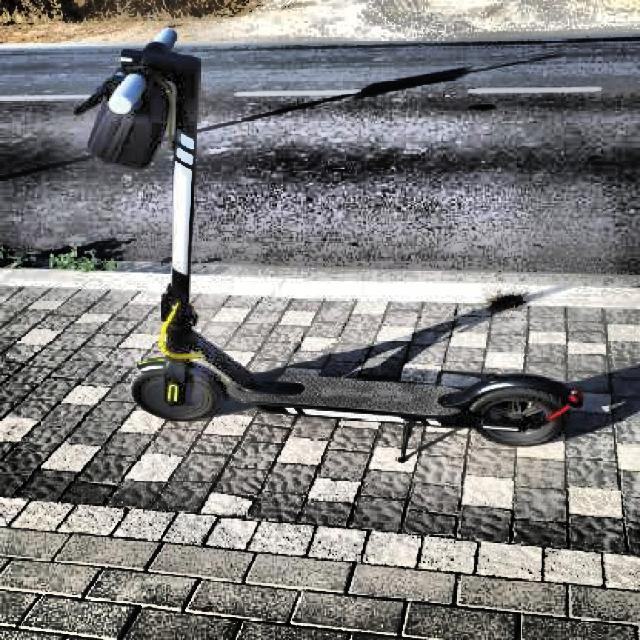bike: (131, 288, 588, 460)
